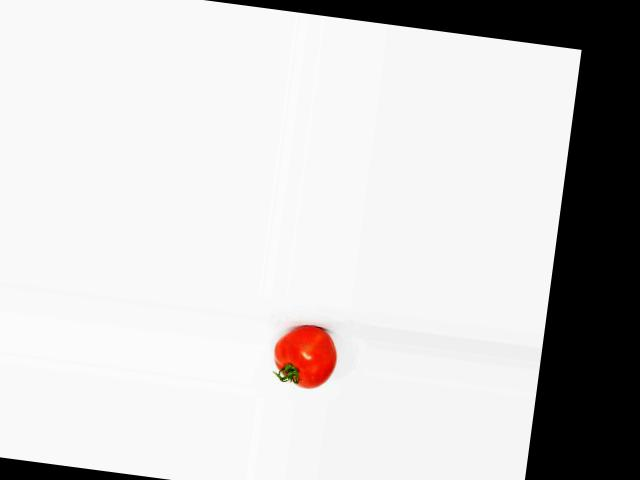tomato: (270, 321, 340, 392)
